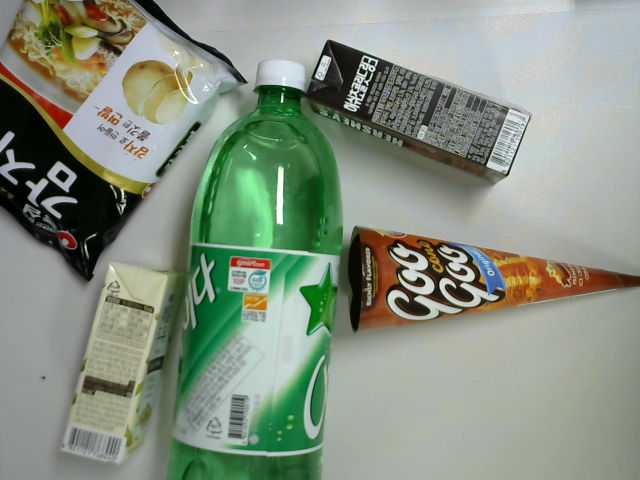99.89_Soymilk: (60, 255, 184, 472)
Chilseong_Cider_1.5L: (166, 53, 351, 480)
GooGoo_Cone_CVS: (336, 222, 640, 334)
Hush_Choco_Drink: (299, 35, 535, 184)
Potato: (1, 1, 254, 288)
